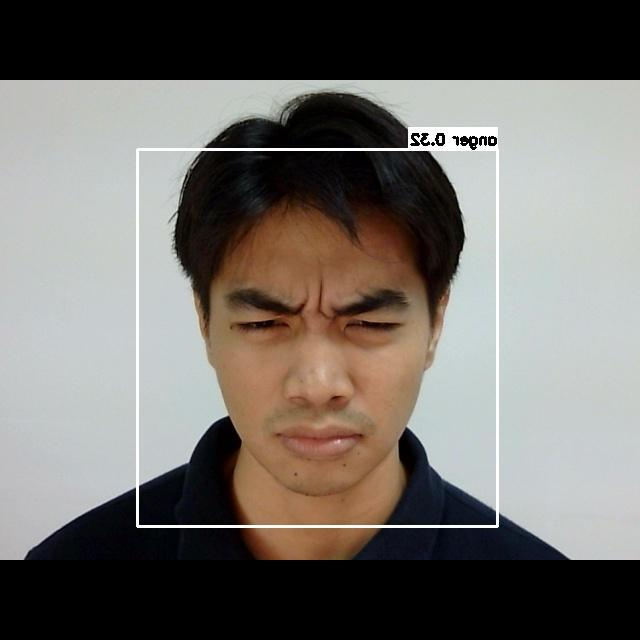Angry: (201, 253, 434, 460)
